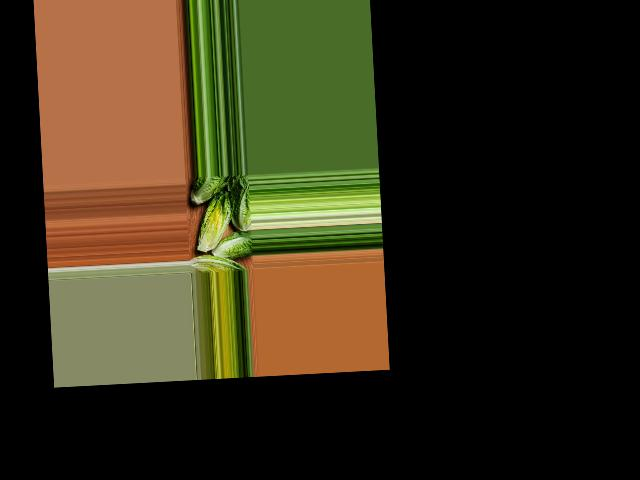lettuce: (190, 251, 246, 274)
